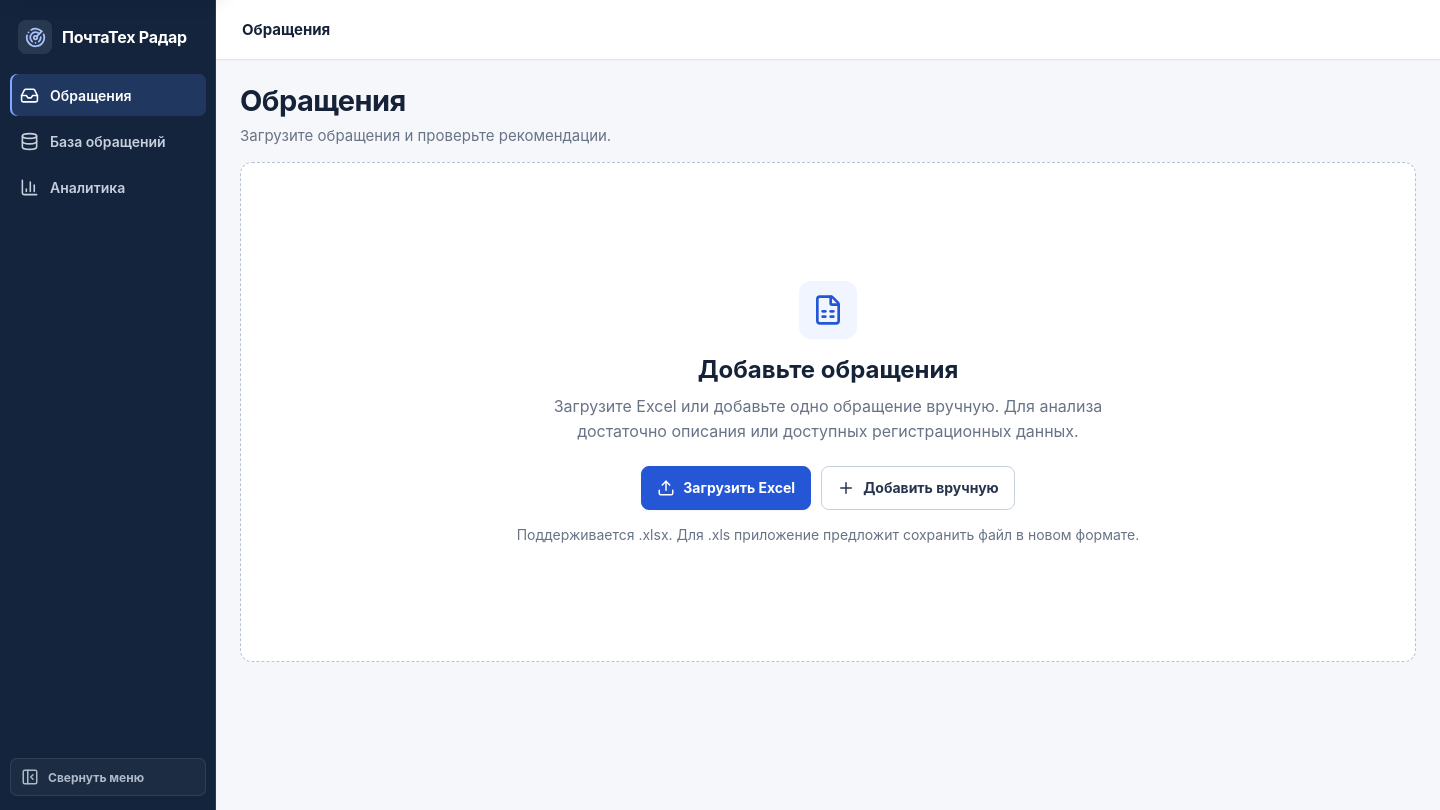
Test: keeps the processing workspace mounted when navigating away and back
This screenshot has width=1440, height=810.
Expected: the heading "Добавьте обращения" is shown, [698,355,958,384]
Click the button "Аналитика".
click(108, 187)  # box [10,166,206,208]
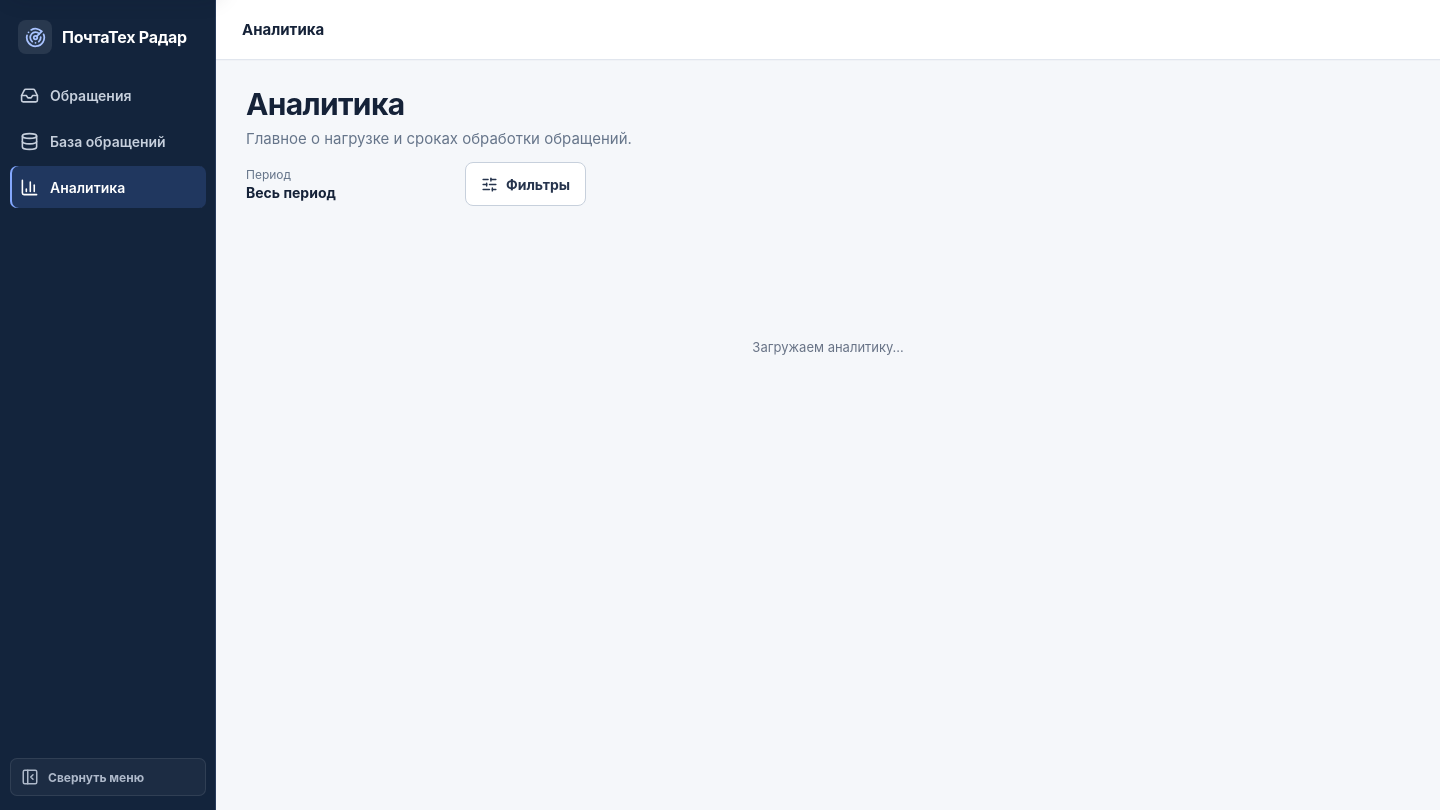
Now the heading "Аналитика" is shown, box [246,86,404,122]
Click the button "Обращения".
click(108, 95)  # box [10,74,206,116]
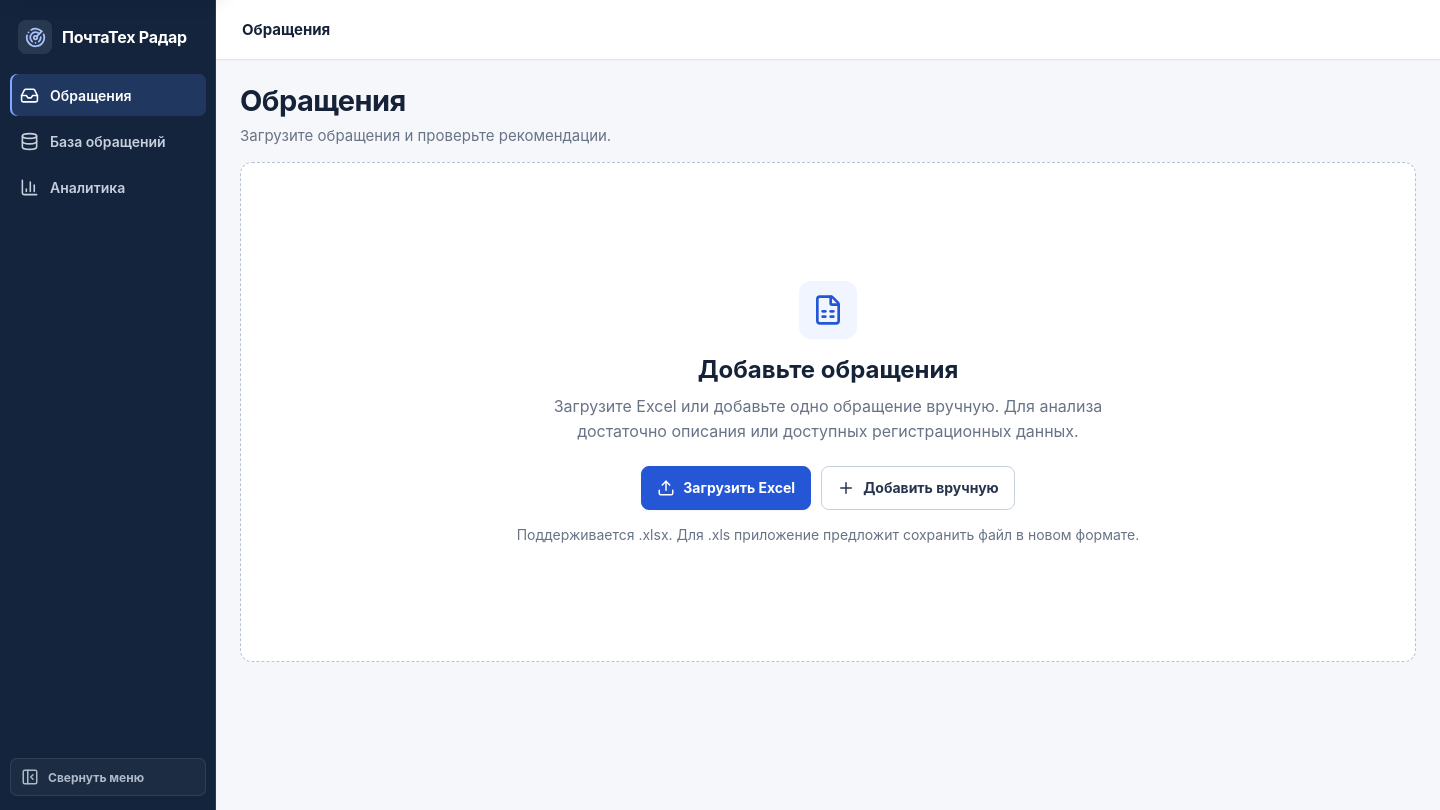
Now the heading "Добавьте обращения" is shown, box [698,355,958,384]
